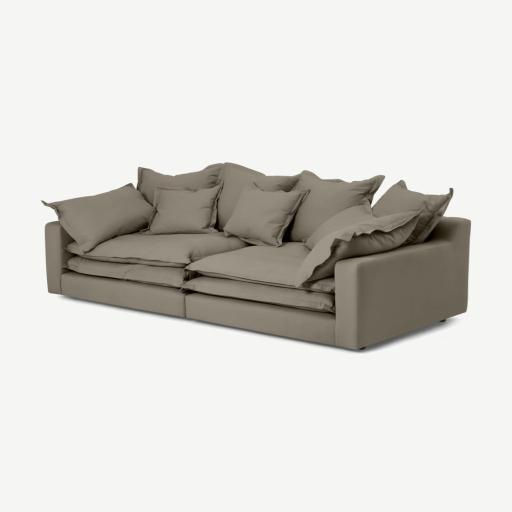back_cushion: (44, 163, 415, 251)
base: (64, 272, 335, 346)
left_arm: (335, 218, 469, 349)
right_arm: (45, 222, 71, 294)
seat_cushion: (67, 233, 310, 288)
two-seater: (0, 0, 511, 512)
